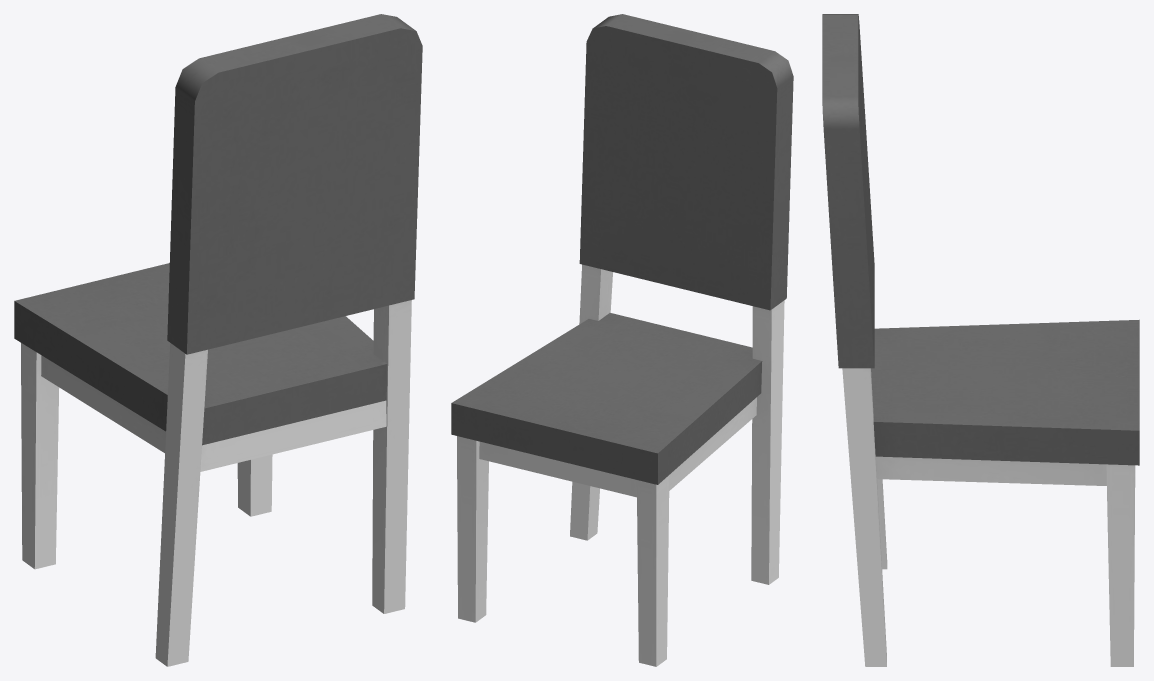
Rendered from Chair02.fbx.
3 views of the same model, side by side, from view 1: azimuth 30°, elevation 25°; view 2: azimuth 150°, elevation 25°; view 3: azimuth 270°, elevation 25° (orthographic). The views are drawn at different scales.
Parts seen in each view (by area): view 1: polySurface30; view 2: polySurface30; view 3: polySurface30.
Boxes of the visible parts, x1,y1,x2,y2 form: polySurface30: (14,14,422,666); polySurface30: (451,14,793,666); polySurface30: (822,14,1139,666).
Bounding box in the file's own units: 5.4 × 12.64 × 6.52.
1 material, 1 textured.
